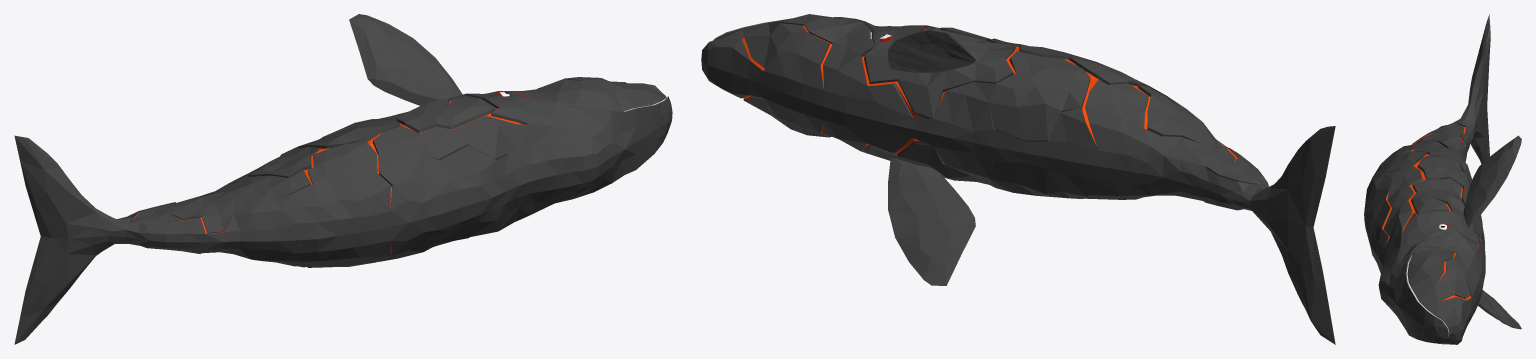
Rendered from MutatedBowheadWhale.glb.
3 views of the same model, side by side, from view 1: azimuth 30°, elevation 25°; view 2: azimuth 150°, elevation 25°; view 3: azimuth 270°, elevation 25° (orthographic). The views are drawn at different scales.
Visible parts, largest first — view 1: MutatedBowheadWhale; view 2: MutatedBowheadWhale; view 3: MutatedBowheadWhale.
Part boxes in pixels (left/top/right/bottom): MutatedBowheadWhale: left=14, top=14, right=672, bottom=344; MutatedBowheadWhale: left=701, top=14, right=1335, bottom=344; MutatedBowheadWhale: left=1364, top=14, right=1521, bottom=344.
Bounding box in the file's own units: 13.96 × 5.18 × 3.91.
1 material, 1 textured.
